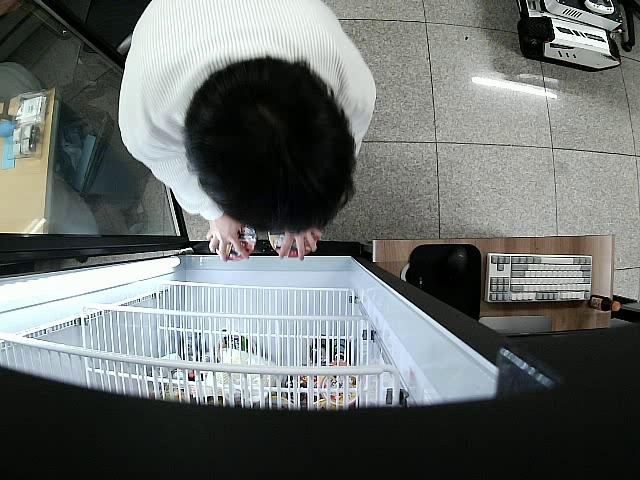00_hand: (208, 218, 247, 262), (278, 228, 322, 261)
07_buldak_L: (268, 228, 318, 262), (215, 224, 257, 263)
